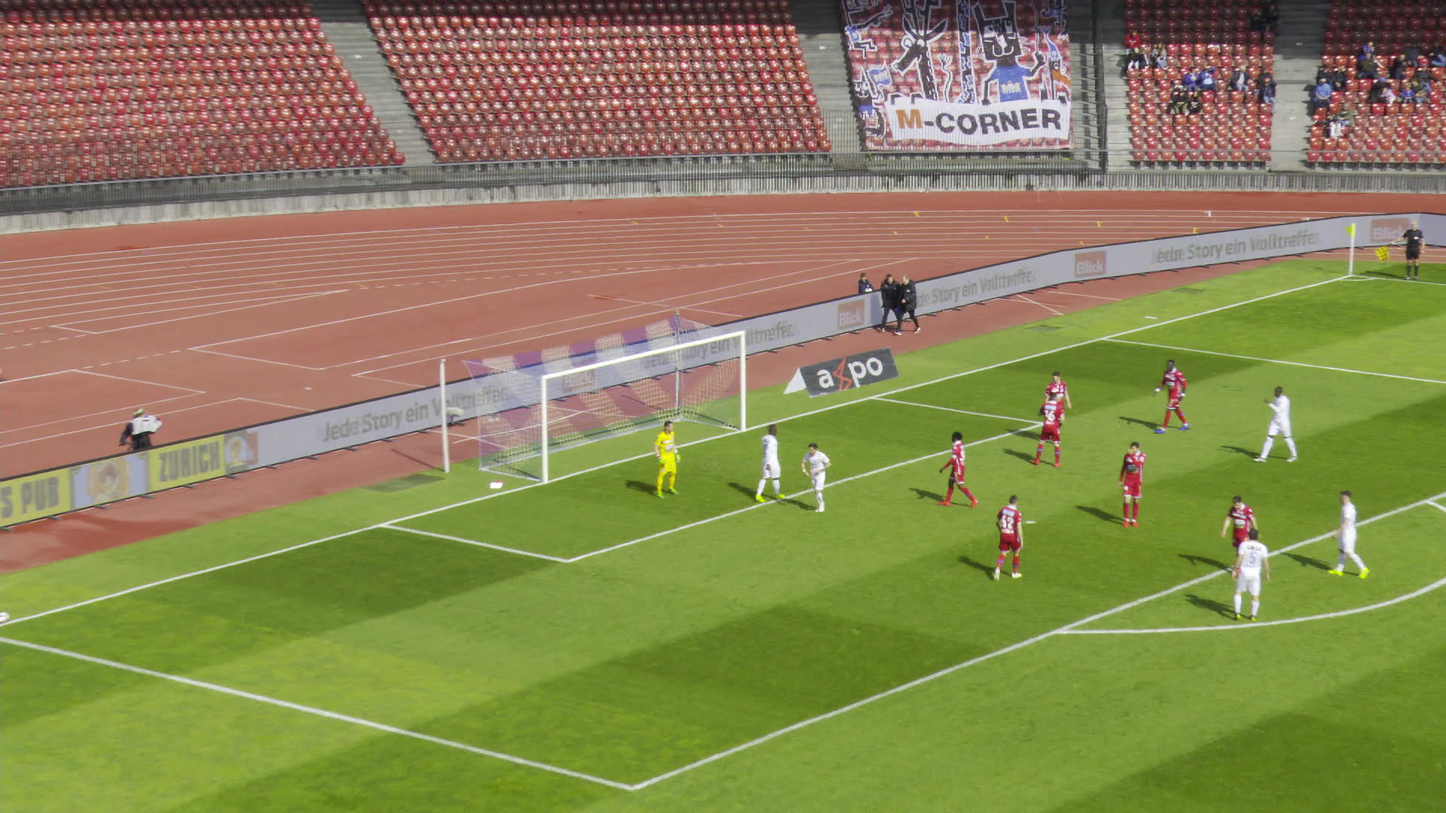player: (1225, 527, 1264, 620), (1329, 492, 1370, 580), (1252, 384, 1291, 463), (987, 495, 1021, 580), (935, 430, 972, 507), (752, 422, 784, 502), (1150, 358, 1182, 433), (1216, 495, 1250, 565), (796, 442, 828, 513), (1114, 442, 1139, 528), (1029, 393, 1058, 467), (650, 420, 677, 498), (1037, 370, 1066, 428)
referee: (1382, 221, 1419, 281)
